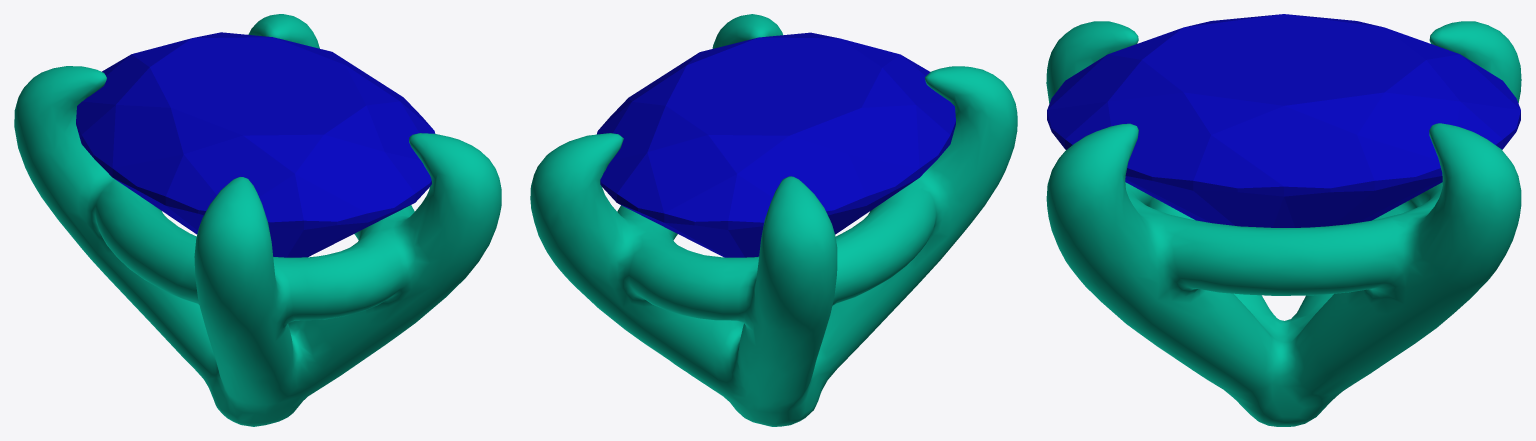
The model's file is Oval.glb.
3 views of the same model, side by side, from view 1: azimuth 30°, elevation 25°; view 2: azimuth 150°, elevation 25°; view 3: azimuth 270°, elevation 25° (orthographic). The views are drawn at different scales.
Visible parts, largest first — view 1: /GSMOD388300- CLAW PRONG_Oval_IJ.3dm, Diamond_Oval; view 2: /GSMOD388300- CLAW PRONG_Oval_IJ.3dm, Diamond_Oval; view 3: /GSMOD388300- CLAW PRONG_Oval_IJ.3dm, Diamond_Oval.
Part boxes in pixels (x1=…): /GSMOD388300- CLAW PRONG_Oval_IJ.3dm: x1=14, y1=14, x2=501, y2=426; Diamond_Oval: x1=76, y1=32, x2=435, y2=257; /GSMOD388300- CLAW PRONG_Oval_IJ.3dm: x1=530, y1=14, x2=1017, y2=426; Diamond_Oval: x1=596, y1=32, x2=955, y2=257; /GSMOD388300- CLAW PRONG_Oval_IJ.3dm: x1=1046, y1=21, x2=1521, y2=426; Diamond_Oval: x1=1047, y1=14, x2=1520, y2=227.
Size of the model in its own units: 6.64 by 7.14 by 8.52.
